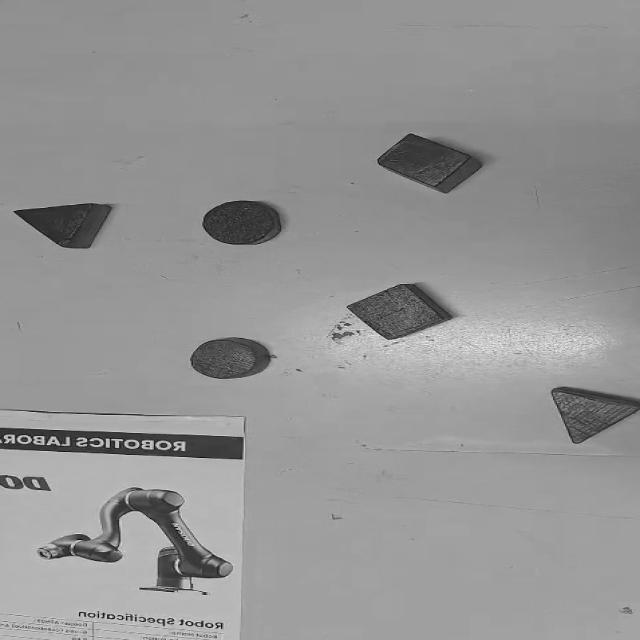bcircle: (201, 200, 281, 245)
bcube: (344, 282, 452, 341)
btriangle: (14, 203, 110, 249)
rcircle: (187, 337, 268, 380)
rcube: (374, 133, 480, 195)
rtriangle: (548, 386, 638, 444)
